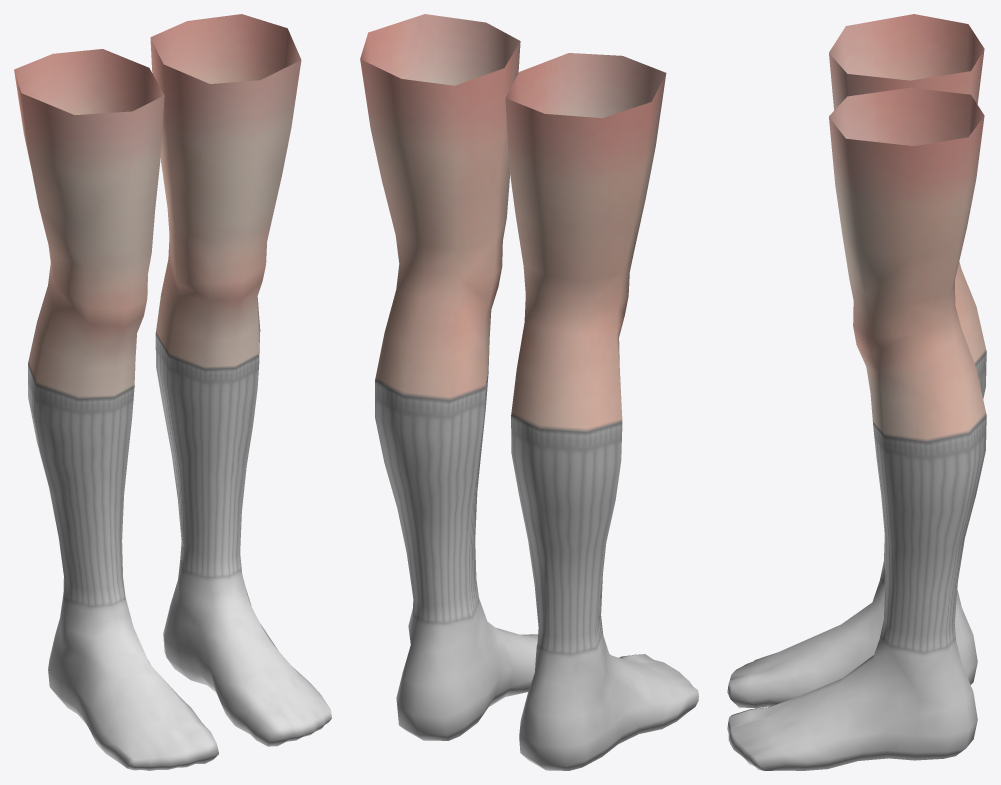
File: p0_lgw0005_00_lgw00.gltf
3 views of the same model, side by side, from view 1: azimuth 30°, elevation 25°; view 2: azimuth 150°, elevation 25°; view 3: azimuth 270°, elevation 25° (orthographic). The views are drawn at different scales.
Visible parts, largest first — view 1: lgw00_legs02_skin_mesh_shape:legs_skin, lgw00_legs00_mesh_shape:legs, lgw00_legs01_skin_mesh_shape:legs_skin, lgw00_legs01_mesh_shape:legs; view 2: lgw00_legs02_skin_mesh_shape:legs_skin, lgw00_legs01_skin_mesh_shape:legs_skin, lgw00_legs00_mesh_shape:legs, lgw00_legs01_mesh_shape:legs; view 3: lgw00_legs00_mesh_shape:legs, lgw00_legs02_skin_mesh_shape:legs_skin, lgw00_legs01_skin_mesh_shape:legs_skin, lgw00_legs01_mesh_shape:legs.
Boxes of the visible parts, x1,y1,x2,y2 form: lgw00_legs02_skin_mesh_shape:legs_skin: [14, 14, 301, 224]; lgw00_legs00_mesh_shape:legs: [48, 500, 331, 770]; lgw00_legs01_skin_mesh_shape:legs_skin: [28, 156, 281, 399]; lgw00_legs01_mesh_shape:legs: [28, 334, 259, 549]; lgw00_legs02_skin_mesh_shape:legs_skin: [360, 14, 666, 231]; lgw00_legs01_skin_mesh_shape:legs_skin: [375, 171, 645, 432]; lgw00_legs00_mesh_shape:legs: [396, 541, 698, 770]; lgw00_legs01_mesh_shape:legs: [375, 373, 622, 594]; lgw00_legs00_mesh_shape:legs: [727, 536, 977, 770]; lgw00_legs02_skin_mesh_shape:legs_skin: [829, 14, 984, 256]; lgw00_legs01_skin_mesh_shape:legs_skin: [842, 228, 986, 442]; lgw00_legs01_mesh_shape:legs: [873, 352, 986, 596].
Size of what is drawn, in the model's own units: 0.2758 by 0.6251 by 0.2287.
Materials: 2 (2 with a texture image).
